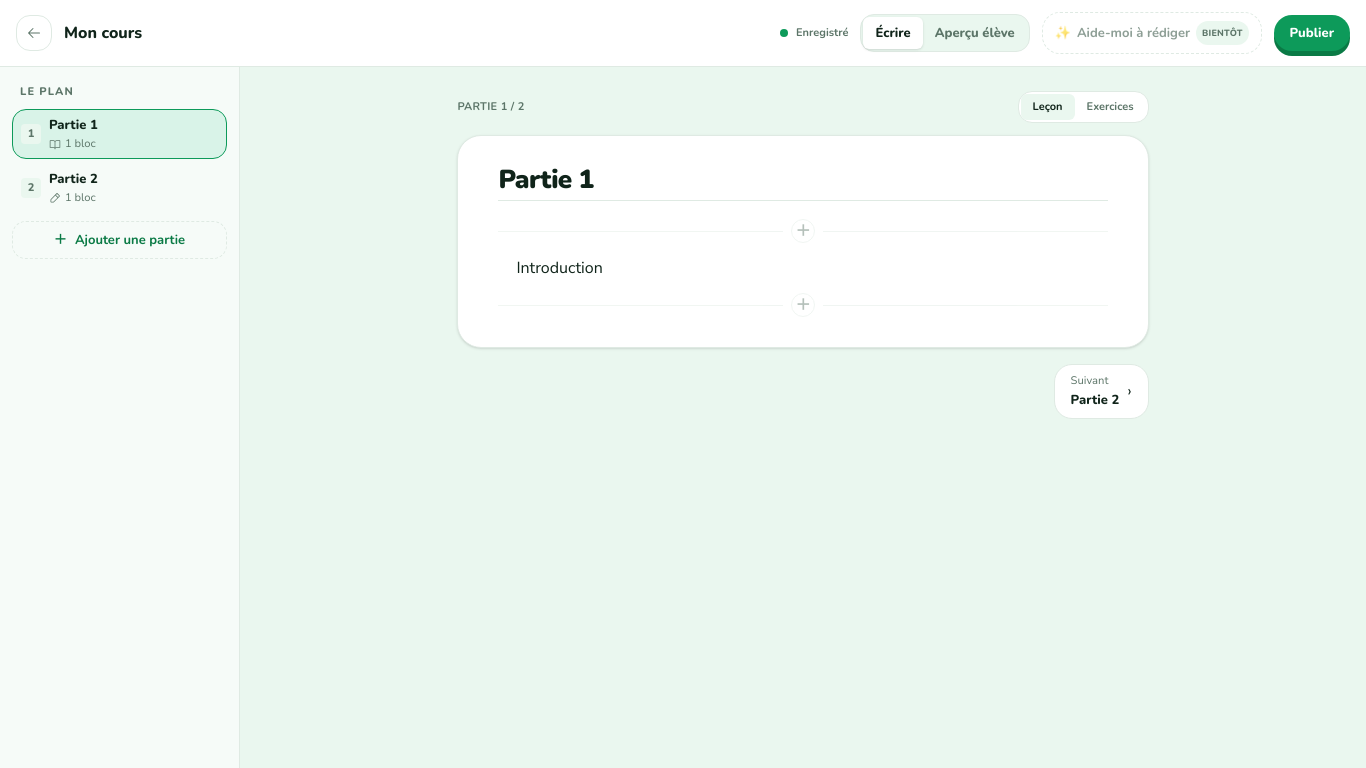
Scenario: EditeurCours — validation avant publication › retire le signalement dès que le champ est corrigé
expect the field named "Titre du cours" is shown: met, box [64,21,768,45]
Click the button "Publier" at (1312, 33), box [1274,15,1350,51]
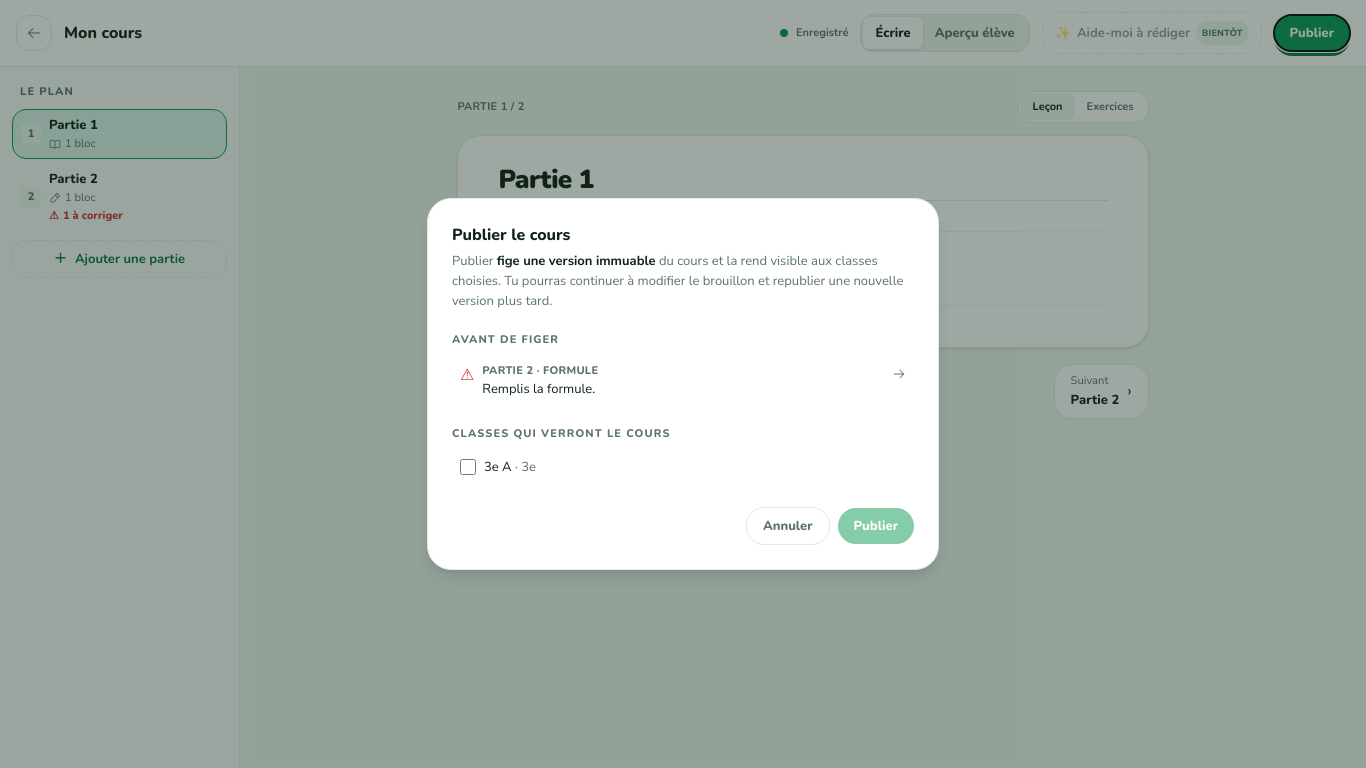
Click the button "⚠ Partie 2 · Formule Remplis la formule." at (540, 370), box [452,357,914,405]
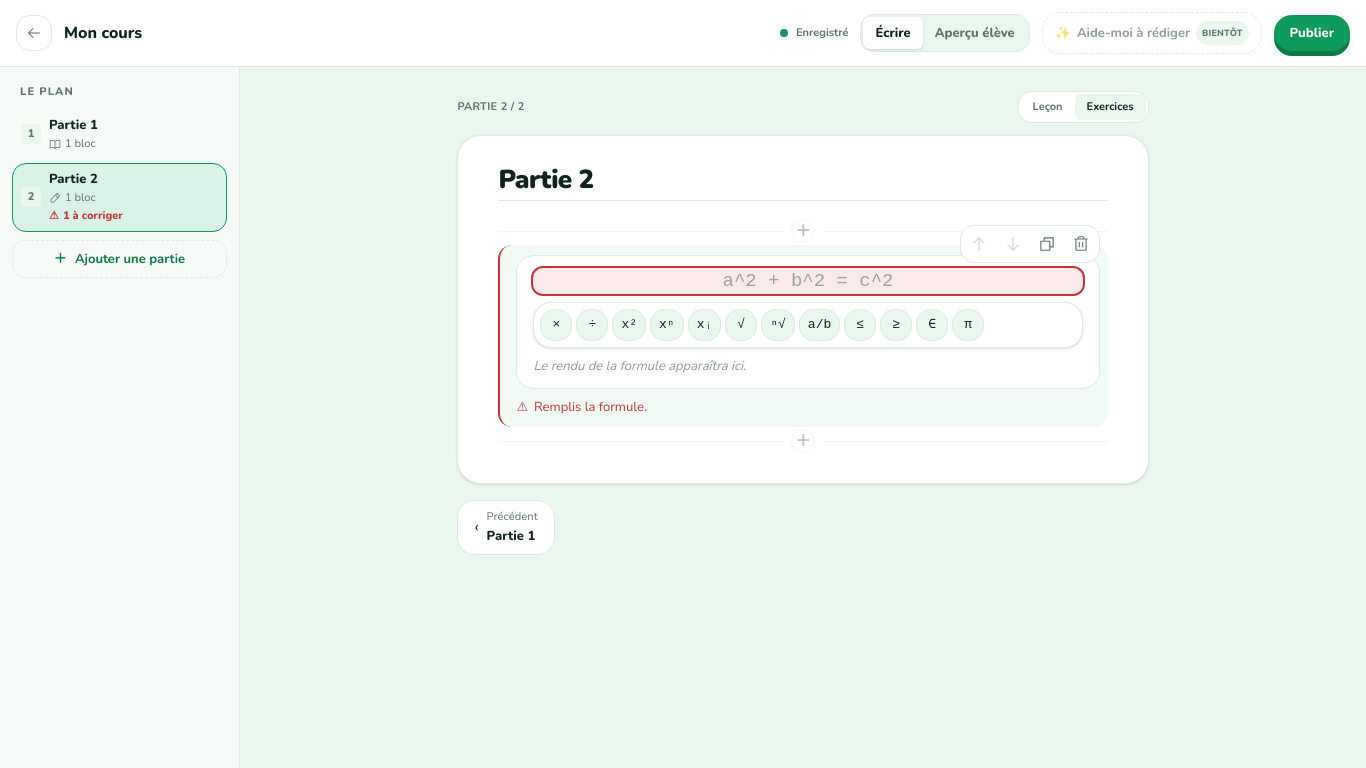
Type "a^2" into the field named "Formule du bloc" at (808, 281), box [533,268,1083,294]
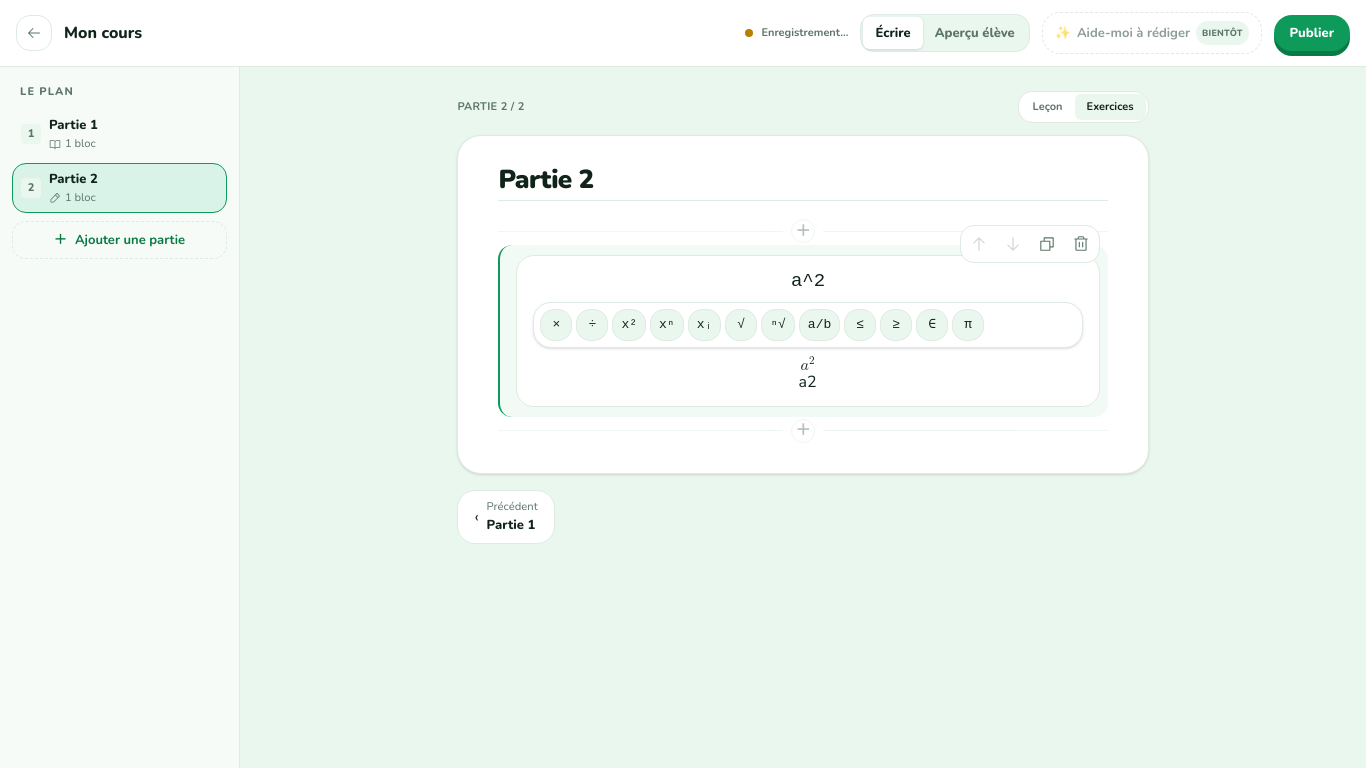
expect the text "Remplis la formule." is gone: met
